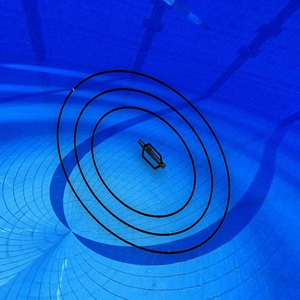circle: (53, 69, 234, 255)
submarine: (134, 134, 171, 177)
